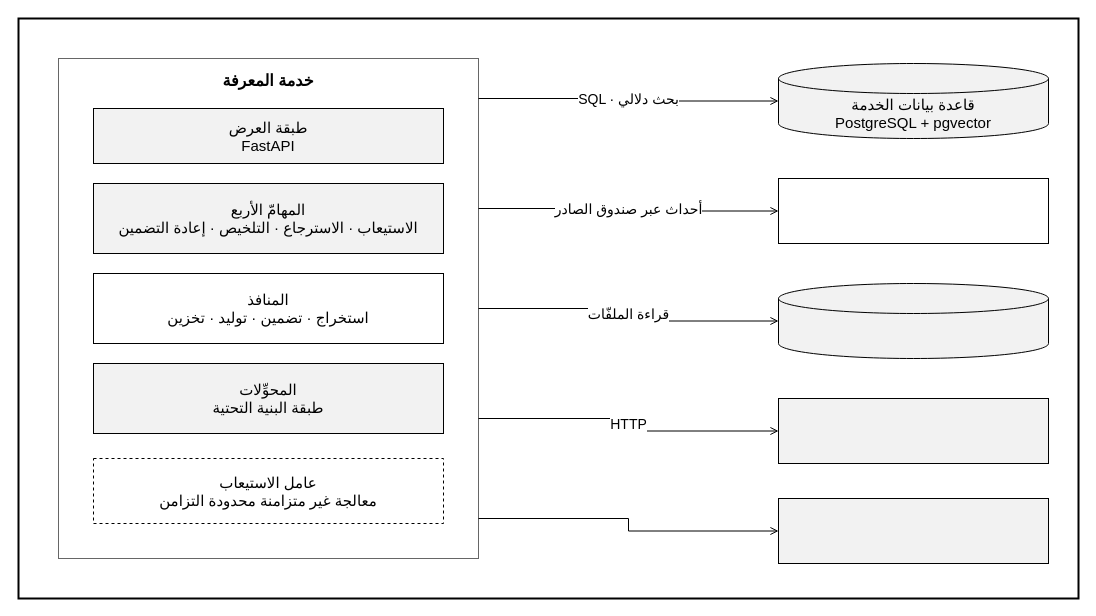
This 1096x616 diagram has some shape labels left out. Each missing label, with the centre of its shape:
"محرّك التعرّف الضوئي OCR" belongs at point 913,531.
"مخزن الملفّات MinIO / S3" belongs at point 913,320.
"مزوّد النماذج تضمين وتوليد" belongs at point 913,431.
"ناقل الرسائل RabbitMQ" belongs at point 913,211.
